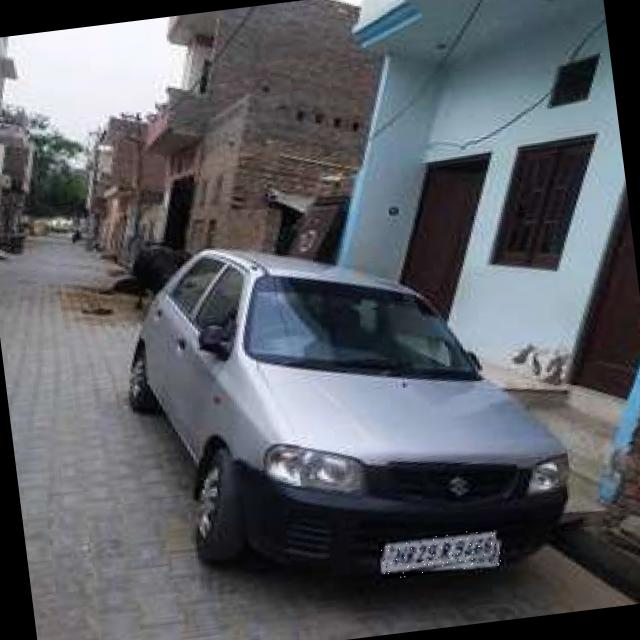Plate: (379, 528, 503, 580)
